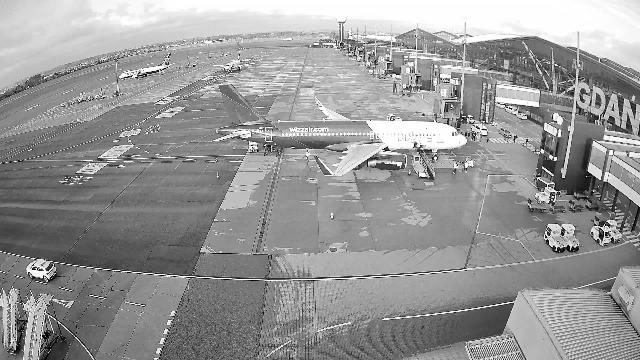Aircraft: (212, 83, 467, 176), (118, 53, 171, 79), (213, 51, 257, 70)
Airport_Tractor: (543, 223, 567, 252), (560, 223, 580, 252), (601, 220, 622, 244), (535, 186, 556, 204), (386, 114, 402, 121)
Baggage_Trolley: (536, 176, 555, 190), (528, 198, 547, 212), (550, 200, 568, 213), (584, 196, 599, 210), (594, 215, 608, 229), (569, 200, 585, 212), (574, 190, 588, 200)
Conveyor_Belt: (410, 151, 436, 179), (418, 106, 435, 116)
Ground_Crew: (452, 162, 458, 175), (305, 150, 310, 162), (463, 161, 468, 173)
Passengers: (462, 128, 466, 135), (513, 135, 517, 142), (474, 132, 477, 141), (470, 132, 473, 141), (466, 131, 469, 140), (486, 133, 489, 142), (478, 131, 480, 141), (526, 138, 528, 145)
